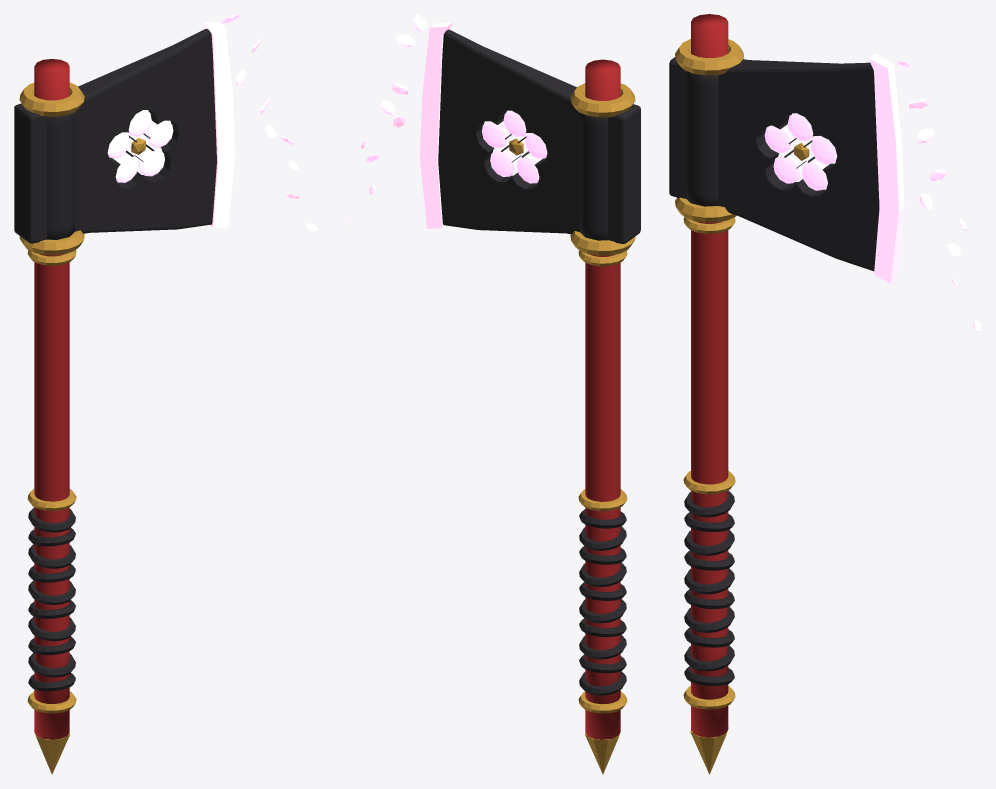
Rendered from hanagiri.glb.
3 renders of one model, left to right at view 1: azimuth 30°, elevation 25°; view 2: azimuth 150°, elevation 25°; view 3: azimuth 330°, elevation 25°, orthographic. The views are drawn at different scales.
Parts seen in each view (by area): view 1: AX14_Head, AX14_Haft, AX14_Edge, AX14_Socket, AX14_Socket_Top, AX14_Socket_Bot, AX14_Butt, AX14_Petal3, AX14_Band0, AX14_Band1, AX14_Wrap_1, AX14_Wrap_3 (+4 smaller); view 2: AX14_Head, AX14_Haft, AX14_Edge, AX14_Socket, AX14_Socket_Top, AX14_Socket_Bot, AX14_Butt, AX14_Petal3, AX14_Band0, AX14_Band1, AX14_Wrap_4, AX14_Wrap_6 (+4 smaller); view 3: AX14_Head, AX14_Haft, AX14_Edge, AX14_Socket, AX14_Socket_Top, AX14_Socket_Bot, AX14_Butt, AX14_Petal2, AX14_Band1, AX14_Band0, AX14_Wrap_1, AX14_Wrap_5 (+11 smaller).
Boxes of the visible parts, x1,y1,x2,y2 form: AX14_Head: (14, 28, 216, 243); AX14_Haft: (34, 59, 69, 739); AX14_Edge: (202, 21, 235, 228); AX14_Socket: (47, 112, 74, 239); AX14_Socket_Top: (19, 82, 84, 116); AX14_Socket_Bot: (19, 230, 84, 255); AX14_Butt: (34, 730, 70, 774); AX14_Petal3: (139, 148, 164, 176); AX14_Band0: (27, 691, 76, 713); AX14_Band1: (27, 489, 76, 510); AX14_Wrap_1: (28, 653, 75, 677); AX14_Wrap_3: (28, 616, 75, 641); AX14_Head: (438, 29, 640, 243); AX14_Haft: (585, 59, 620, 739); AX14_Edge: (420, 22, 453, 228); AX14_Socket: (580, 113, 607, 240); AX14_Socket_Top: (570, 83, 635, 117); AX14_Socket_Bot: (570, 231, 635, 255); AX14_Butt: (585, 730, 620, 774); AX14_Petal3: (490, 149, 515, 176); AX14_Band0: (578, 691, 627, 713); AX14_Band1: (578, 489, 627, 511); AX14_Wrap_4: (579, 599, 626, 623); AX14_Wrap_6: (579, 562, 626, 587); AX14_Head: (669, 57, 879, 271); AX14_Haft: (691, 14, 728, 737); AX14_Edge: (868, 53, 904, 283); AX14_Socket: (686, 71, 718, 206); AX14_Socket_Top: (675, 39, 744, 75); AX14_Socket_Bot: (675, 197, 736, 222); AX14_Butt: (690, 727, 728, 774); AX14_Petal2: (773, 154, 800, 183); AX14_Band1: (683, 471, 735, 494); AX14_Band0: (683, 686, 735, 709); AX14_Wrap_1: (684, 645, 734, 671); AX14_Wrap_5: (684, 568, 734, 594).
Size of the model in its own units: 0.5728 by 1.34 by 0.112.
